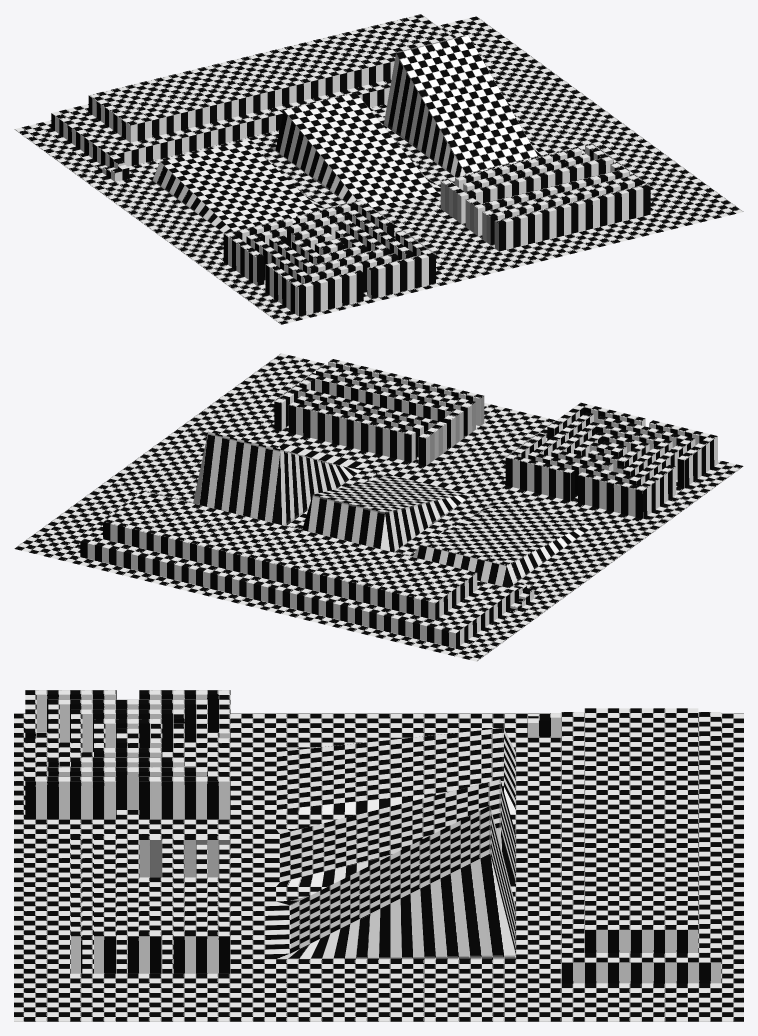
File: BaseTestMap.glb
The picture shows the model from 3 angles, top to bottom: view 1: azimuth 30°, elevation 25°; view 2: azimuth 150°, elevation 25°; view 3: azimuth 270°, elevation 25°; orthographic projection. The views are drawn at different scales.
Parts seen in each view (by area): view 1: Plane; view 2: Plane; view 3: Plane.
Part boxes in pixels (<box>): Plane: <box>14,14,743,324</box>; Plane: <box>14,353,743,661</box>; Plane: <box>14,690,743,1021</box>.
Size of the model in its own units: 50 by 7.62 by 50.
1 material, 1 textured.
